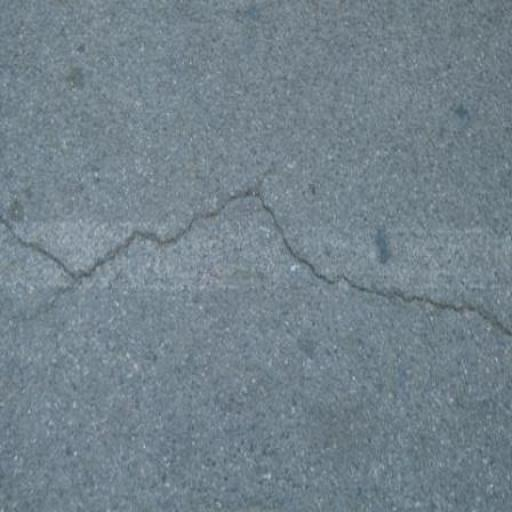spalling: (7, 174, 506, 350)
